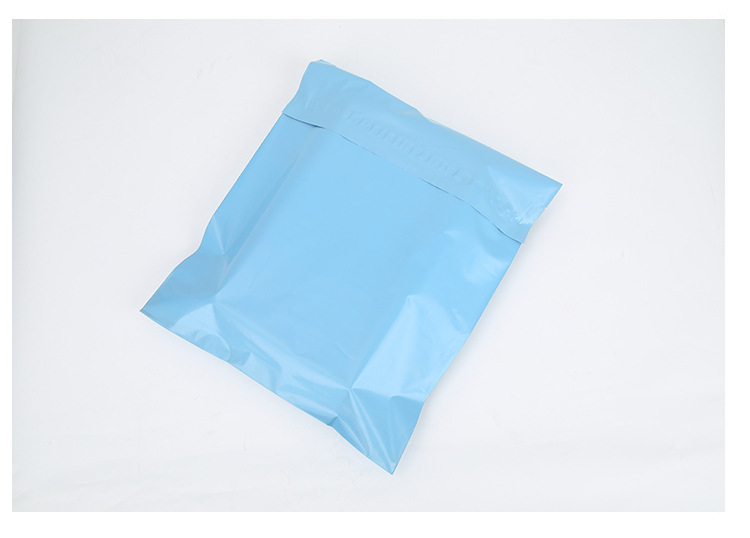塑料袋: (142, 62, 560, 472)
